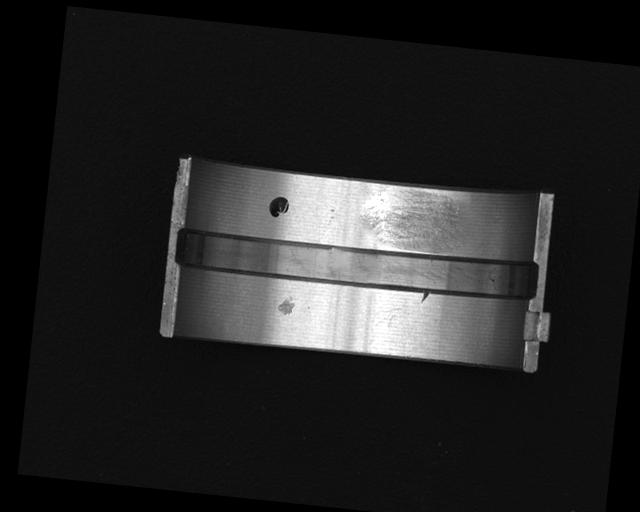blot: (267, 193, 289, 220)
bruise: (274, 292, 296, 317), (420, 291, 428, 304)
gap: (171, 225, 542, 304)
scratch: (357, 182, 468, 255)
